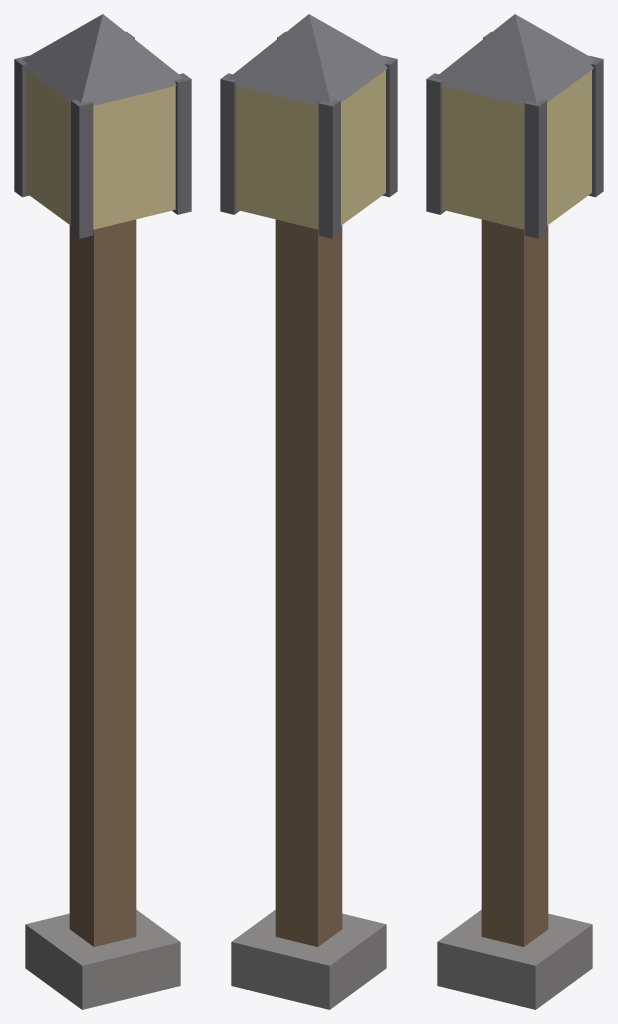
File: lamp.glb
The picture shows the model from 3 angles, left to right: view 1: azimuth 30°, elevation 25°; view 2: azimuth 150°, elevation 25°; view 3: azimuth 330°, elevation 25°; orthographic projection.
Visible parts, largest first — view 1: lamp; view 2: lamp; view 3: lamp.
Boxes of the visible parts, x1=… form: lamp: x1=14, y1=14, x2=191, y2=1009; lamp: x1=220, y1=14, x2=397, y2=1009; lamp: x1=426, y1=14, x2=603, y2=1009.
Size of the model in its own units: 0.32 by 2.62 by 0.32.
